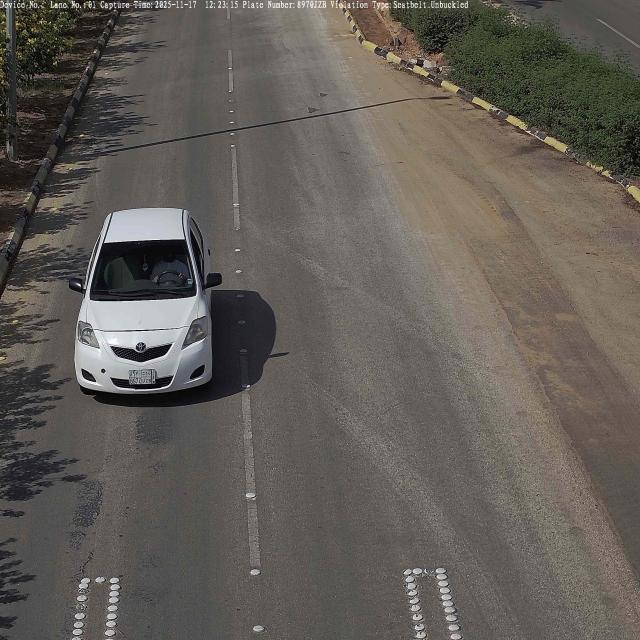person_without_seatbelt: (150, 248, 189, 286)
